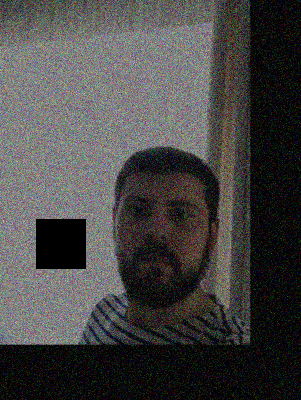without_mask: (115, 190, 210, 308)
